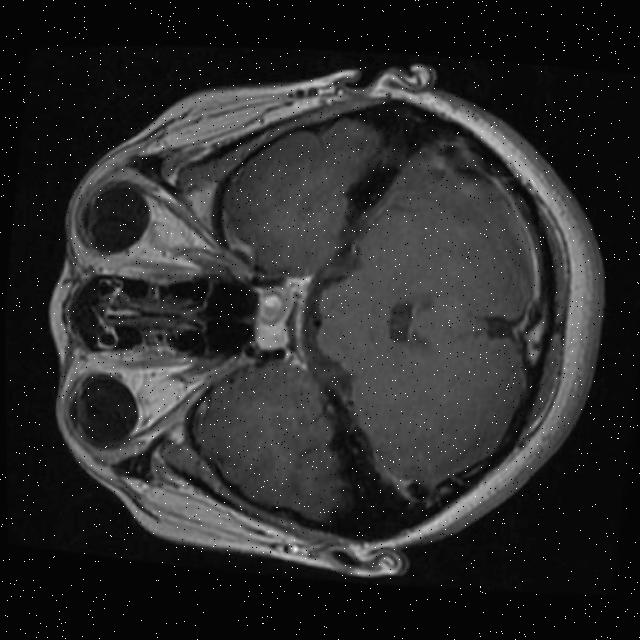Pituitary: (250, 280, 296, 354)
